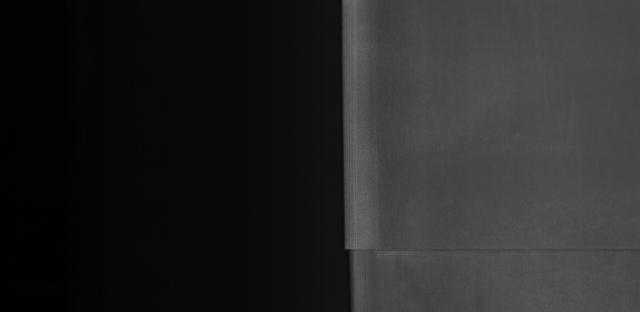welding_line: (322, 239, 638, 262)
